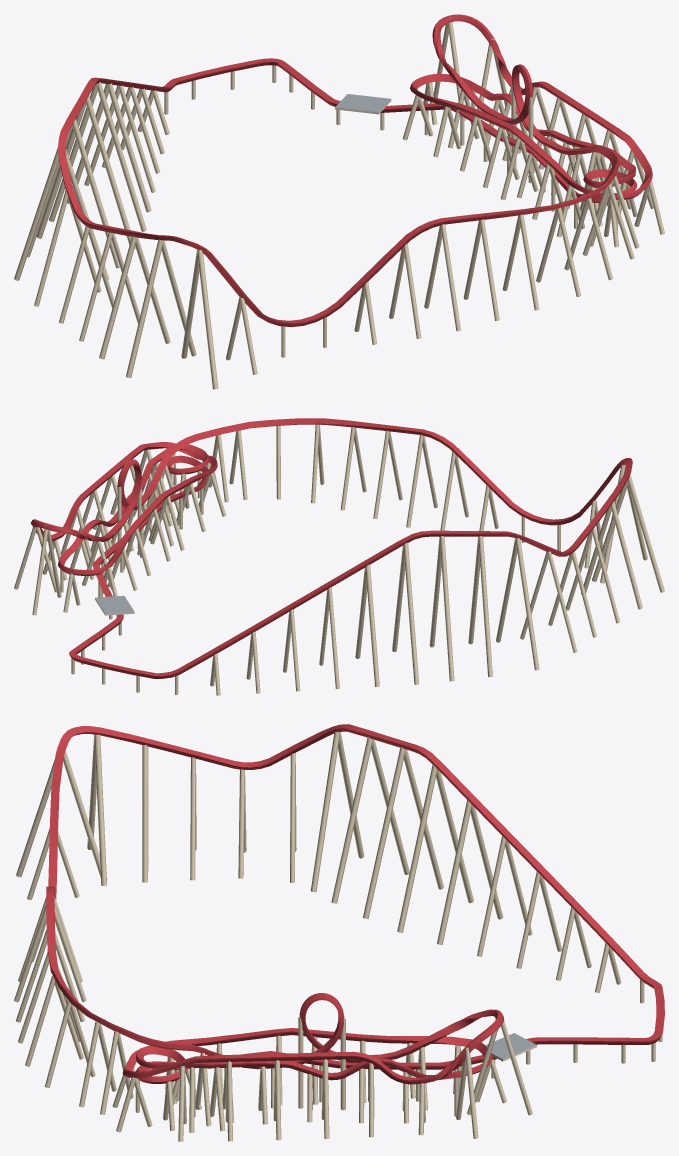
The model's file is lv-big-apple-coaster.glb.
3 views of the same model, one above another, from view 1: azimuth 30°, elevation 25°; view 2: azimuth 150°, elevation 25°; view 3: azimuth 270°, elevation 25° (orthographic). The views are drawn at different scales.
Visible parts, largest first — view 1: Big Apple Coaster; view 2: Big Apple Coaster; view 3: Big Apple Coaster.
Part boxes in pixels (box(x1,y1,x2,y2)): Big Apple Coaster: box(14, 14, 664, 389); Big Apple Coaster: box(14, 418, 664, 695); Big Apple Coaster: box(14, 724, 664, 1141).
Size of the model in its own units: 247 by 63.26 by 230.
